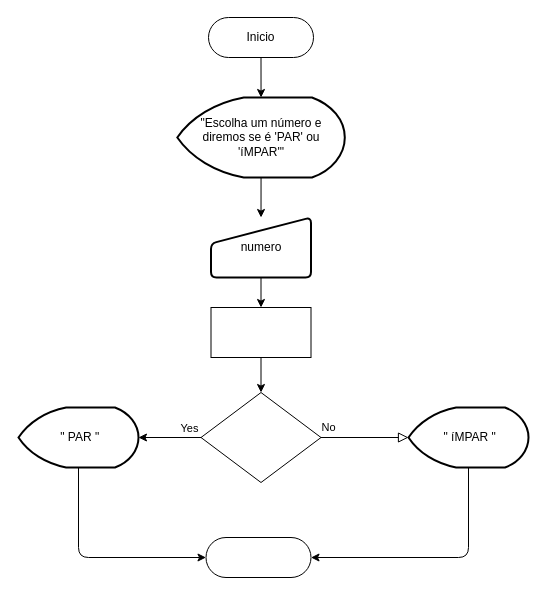
Image size: 546x595. Some labels were removed from this diagram. The shapes that lost their labels are listed below. From the top down, each one's box as (x1, y1, x2, y2) in pixels, then its label:
(210, 306, 311, 358): calcula: numero % 2
(200, 392, 321, 482): Se resultado ' 0 '
(205, 536, 311, 578): FIM
